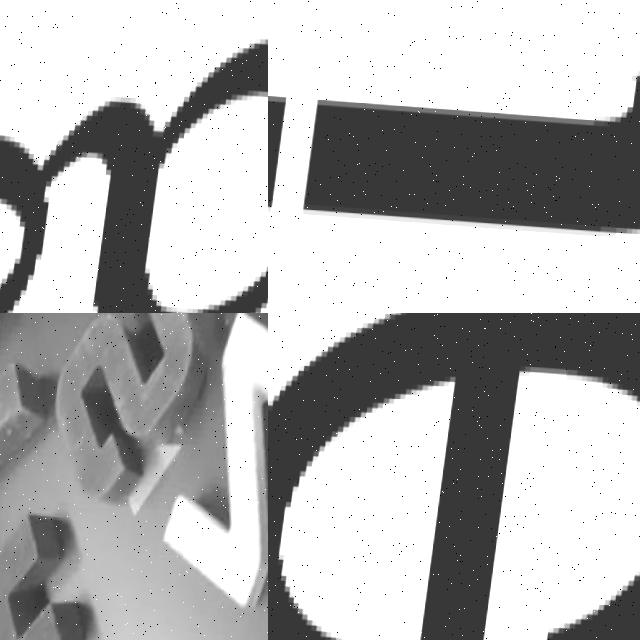A: (0, 503, 103, 640)
E: (268, 313, 640, 640)
G: (0, 0, 268, 313)
J: (268, 15, 640, 246)
S: (40, 313, 217, 508)
T: (0, 360, 42, 567)
Z: (149, 313, 268, 627)
